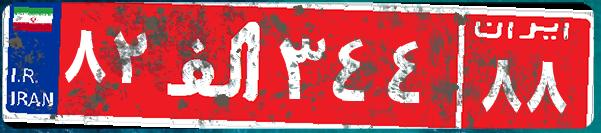2: (110, 28, 158, 105)
3: (273, 28, 330, 110)
4: (385, 28, 445, 110), (330, 28, 385, 110)
8: (57, 26, 110, 107), (475, 38, 525, 113), (525, 38, 570, 115)
الف: (158, 15, 273, 115)
